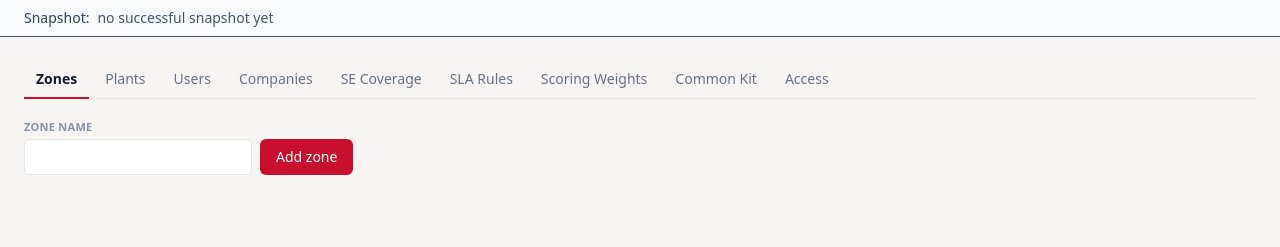
Settings — Operations Head only (AC#1) › lists companies and creates a new one through the API
Click the tab "Companies".
click(276, 80)  # box top-left (227, 61), bottom-right (325, 99)
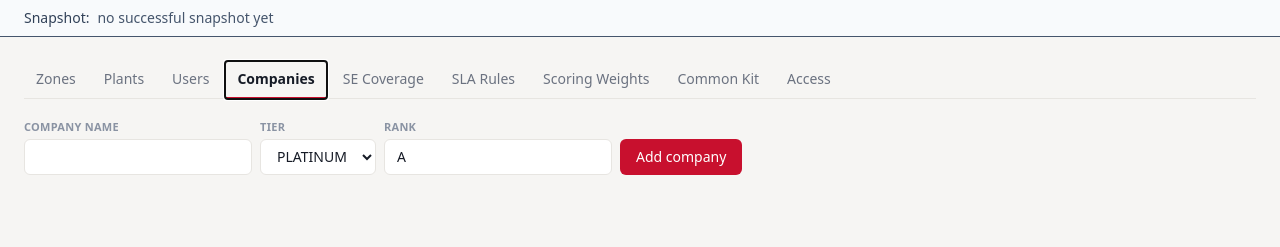
Type "Globex" into the field labelled "Company name".
click(138, 157); type("Globex")  # box top-left (24, 139), bottom-right (252, 175)
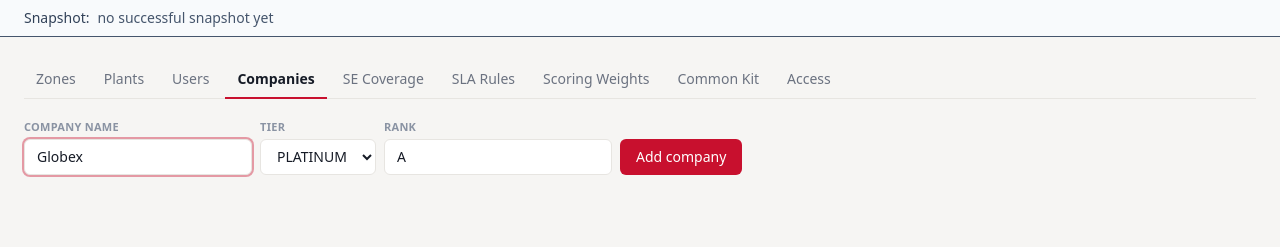
Select "GOLD" in the dropdown labelled "Tier" at [318, 157], box top-left (260, 139), bottom-right (376, 175)
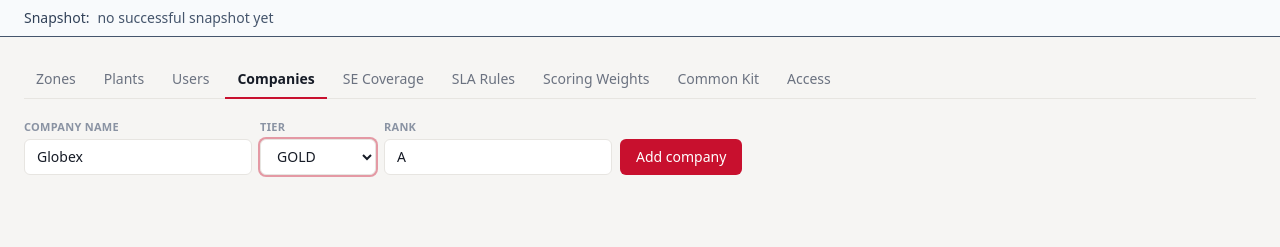
Type "B" into the field labelled "Rank".
click(498, 157); type("B")  # box top-left (384, 139), bottom-right (612, 175)
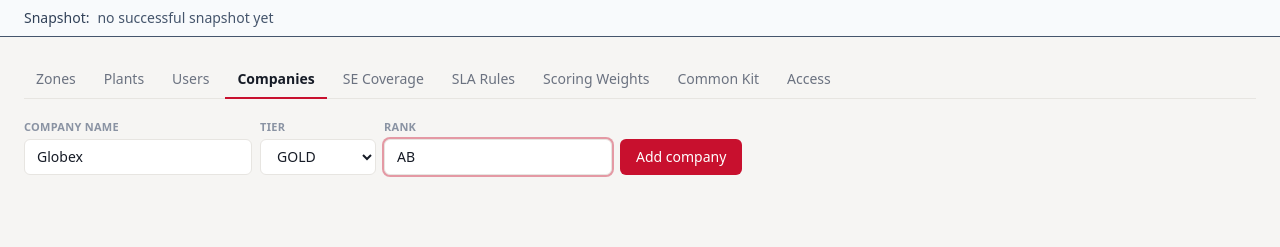
Click the button "Add company".
click(681, 157)  # box top-left (620, 139), bottom-right (742, 175)
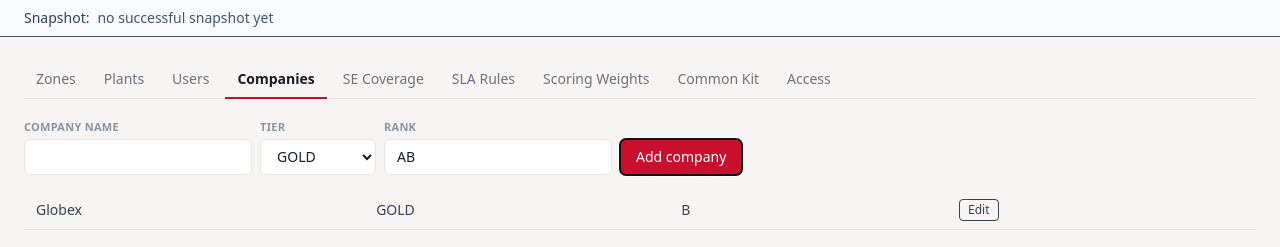
Expected: the text "Globex" is shown, top-left (24, 191), bottom-right (364, 229)
